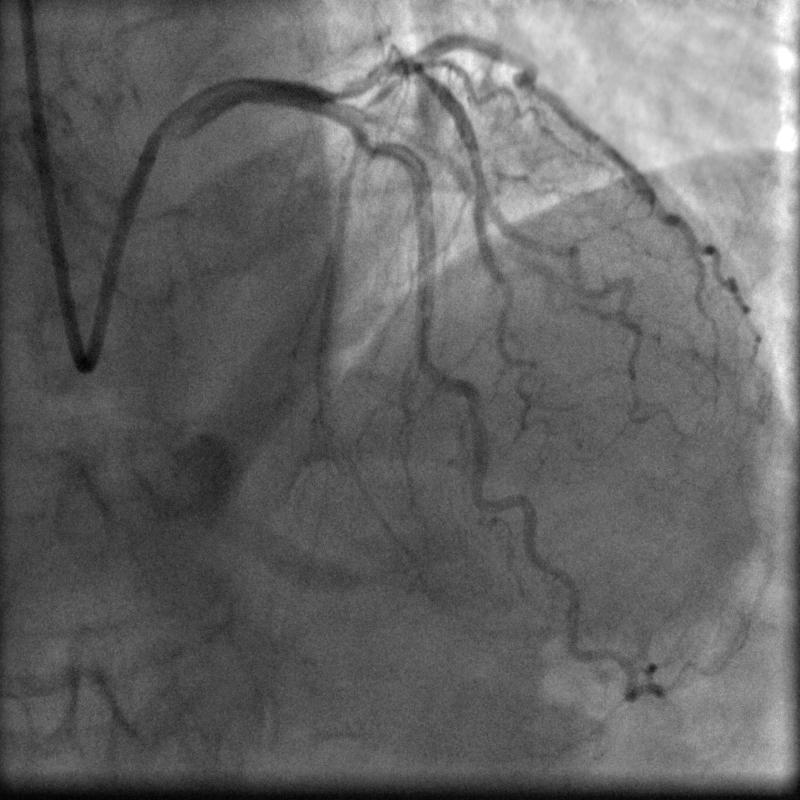Stenosis: (323, 63, 385, 98)
